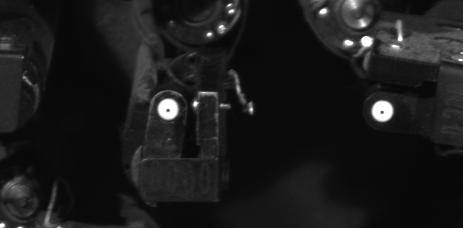fiber: (366, 96, 396, 128), (152, 95, 186, 123)
